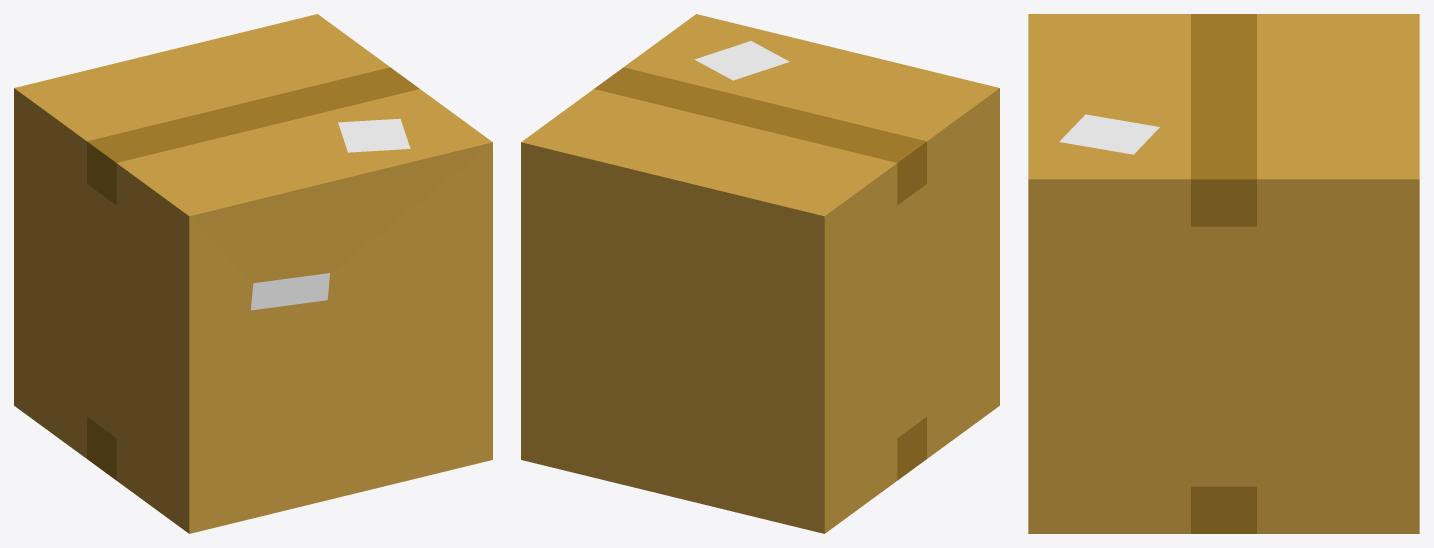
File: wholesale_trade.gltf
3 renders of one model, left to right at view 1: azimuth 30°, elevation 25°; view 2: azimuth 150°, elevation 25°; view 3: azimuth 270°, elevation 25°, orthographic. The views are drawn at different scales.
Visible parts, largest first — view 1: Wholesale Trade; view 2: Wholesale Trade; view 3: Wholesale Trade.
Boxes of the visible parts, x1=… form: Wholesale Trade: x1=14, y1=14, x2=492, y2=533; Wholesale Trade: x1=521, y1=14, x2=999, y2=533; Wholesale Trade: x1=1028, y1=14, x2=1419, y2=533.
Size of the model in its own units: 0.9559 by 0.9559 by 0.9559.
1 material, 1 textured.
